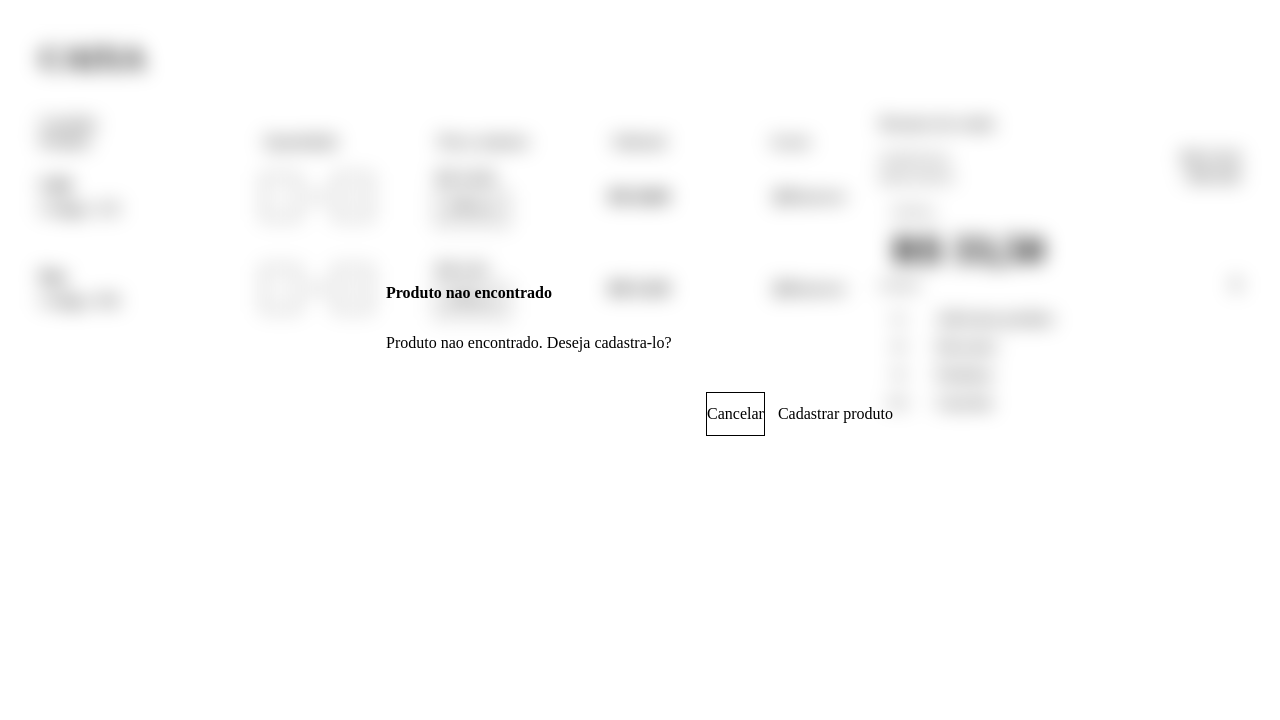
Scenario: CaixaPage checkout flow › abre o formulario existente sobre o caixa e preserva o codigo e os itens
The width and height of the screenshot is (1280, 720).
Click the button "Cadastrar produto" at (835, 414), box [777,392,894,436]
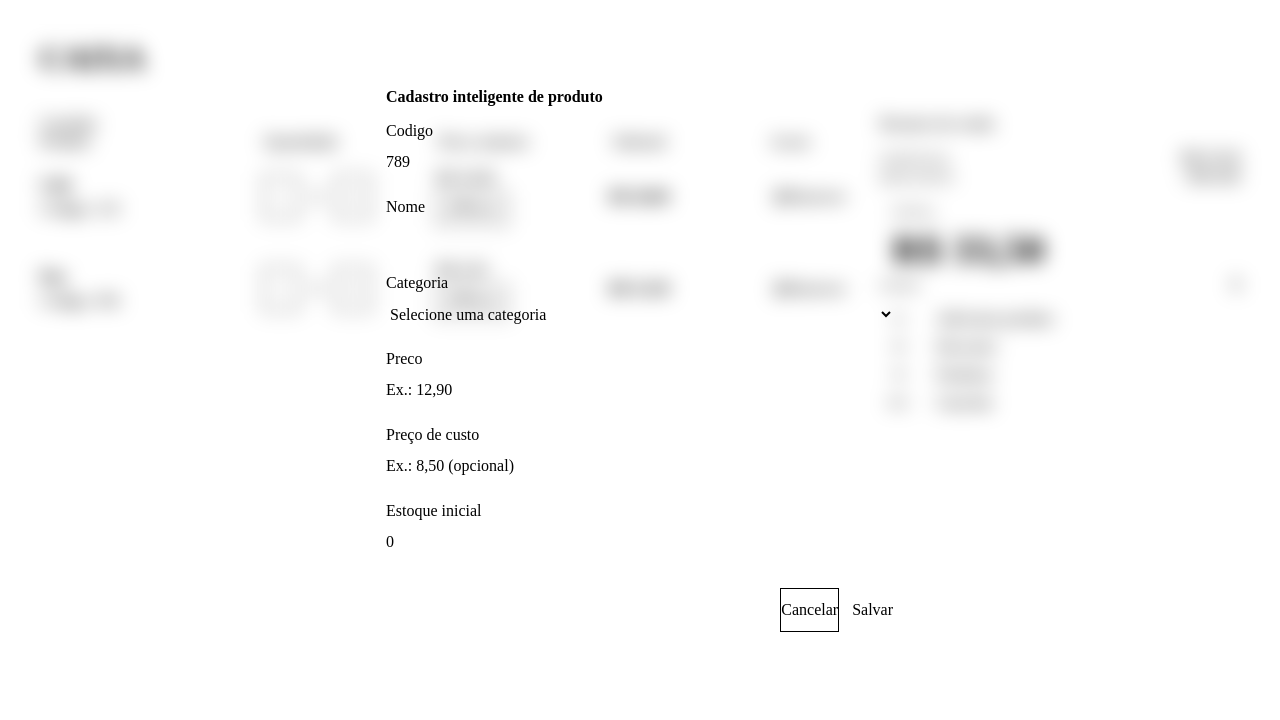
expect the text "CAIXA" is shown: met, box [40,40,145,76]
expect the form with id "smart-product-form" is shown: met, box [386,122,894,564]
expect the field named "barcode" holds "789": met, box [386,140,894,184]
